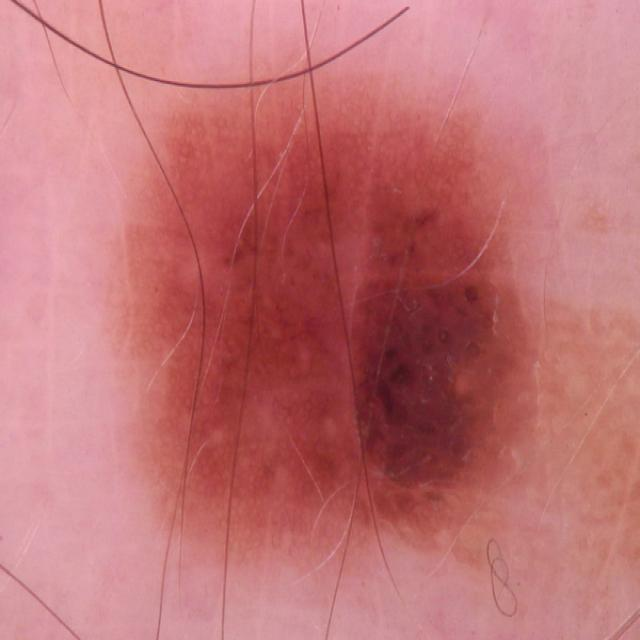NV: (99, 63, 546, 573)
